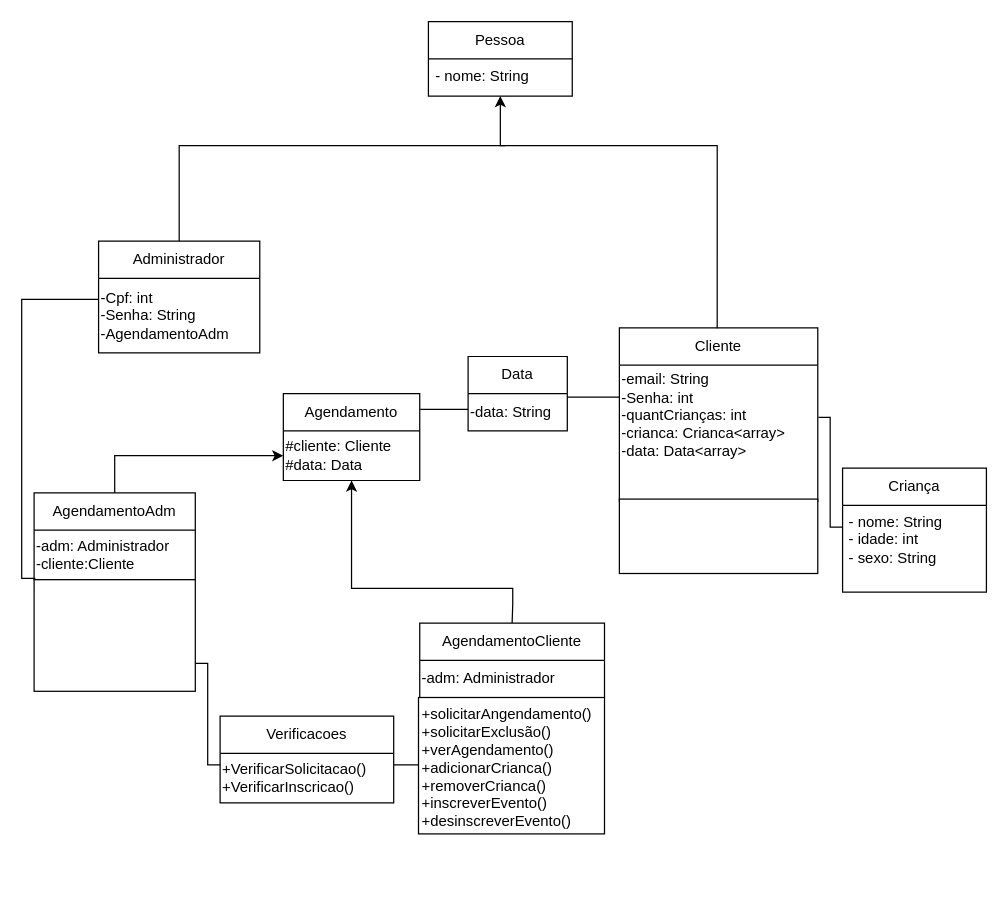
Some shapes in this 1008 by 924 pixel diagram are drawn without their labels. The shapes that lost their labels are listed below. From the top down, each one's centre as x and y in pixels, then its label:
At [718,536]: "+adicionarCrianca() +removerCrianca()".
At [114,634]: "+CriarEvento() +ExcluirEvento() +Agendar() +Remover()".
